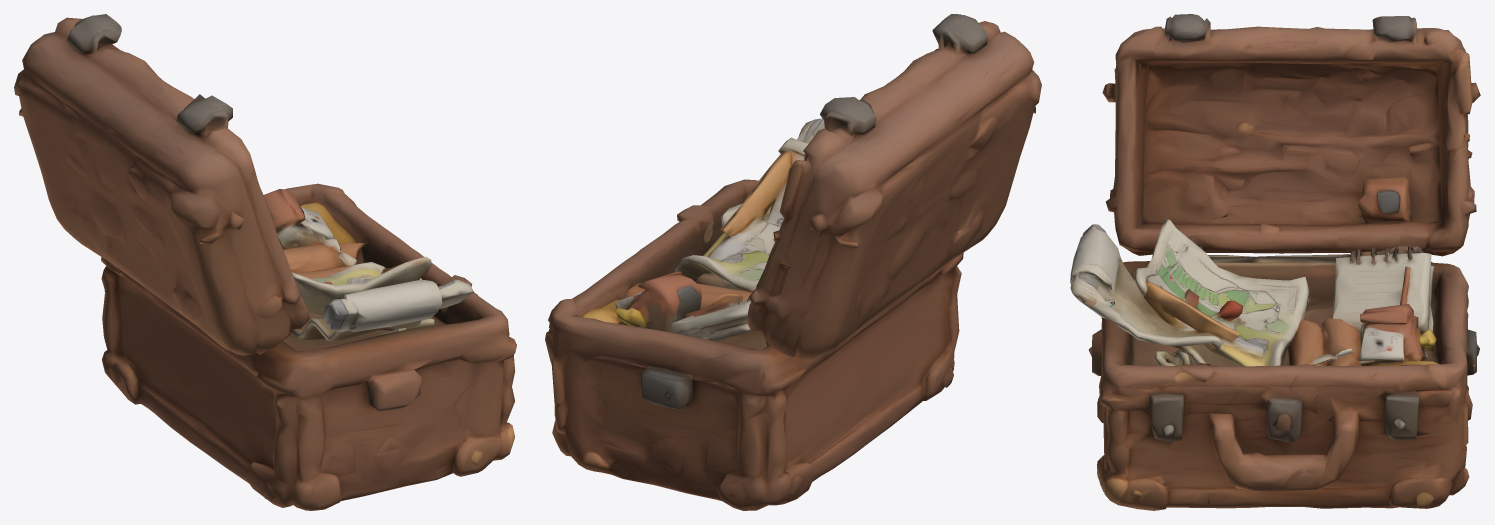
Rendered from toolbox.glb.
3 views of the same model, side by side, from view 1: azimuth 30°, elevation 25°; view 2: azimuth 150°, elevation 25°; view 3: azimuth 270°, elevation 25° (orthographic). The views are drawn at different scales.
Visible parts, largest first — view 1: tripo_node_dd33c11b-0a6c-4c96-91fe-f055983f0fce; view 2: tripo_node_dd33c11b-0a6c-4c96-91fe-f055983f0fce; view 3: tripo_node_dd33c11b-0a6c-4c96-91fe-f055983f0fce.
Boxes of the visible parts, bbox=[...] form: tripo_node_dd33c11b-0a6c-4c96-91fe-f055983f0fce: bbox=[14, 14, 516, 510]; tripo_node_dd33c11b-0a6c-4c96-91fe-f055983f0fce: bbox=[545, 14, 1041, 510]; tripo_node_dd33c11b-0a6c-4c96-91fe-f055983f0fce: bbox=[1070, 14, 1480, 510].
Size of the model in its own units: 0.9281 by 1 by 0.9869.
1 material, 1 textured.
